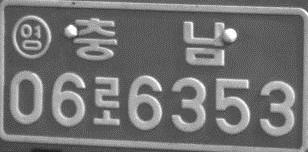0: (8, 69, 43, 126)
3: (170, 76, 205, 133), (260, 79, 294, 137)
5: (214, 77, 249, 134)
6: (126, 73, 162, 131), (50, 71, 85, 128)
로: (93, 75, 122, 127)
영: (11, 13, 52, 60)
충남_D: (71, 16, 228, 66)
